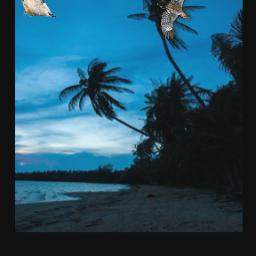Woodpecker: (157, 0, 196, 39), (17, 0, 59, 17)
